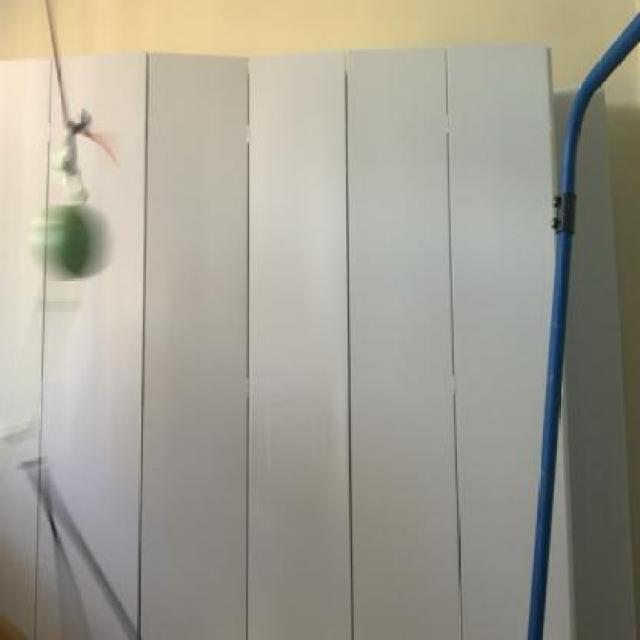baseball: (29, 198, 128, 287)
